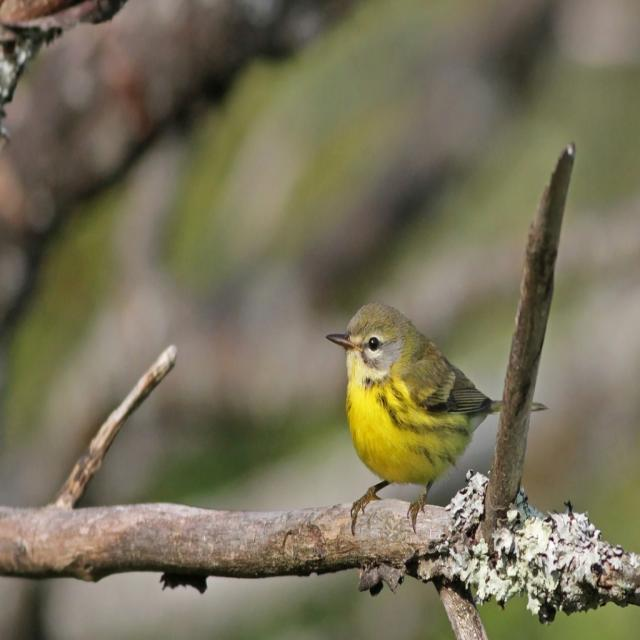bird: (324, 299, 504, 522)
